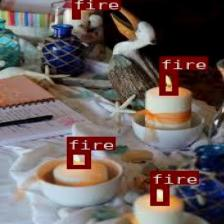fire: (66, 149, 90, 168), (158, 70, 176, 94), (150, 185, 168, 205), (71, 0, 79, 18)
